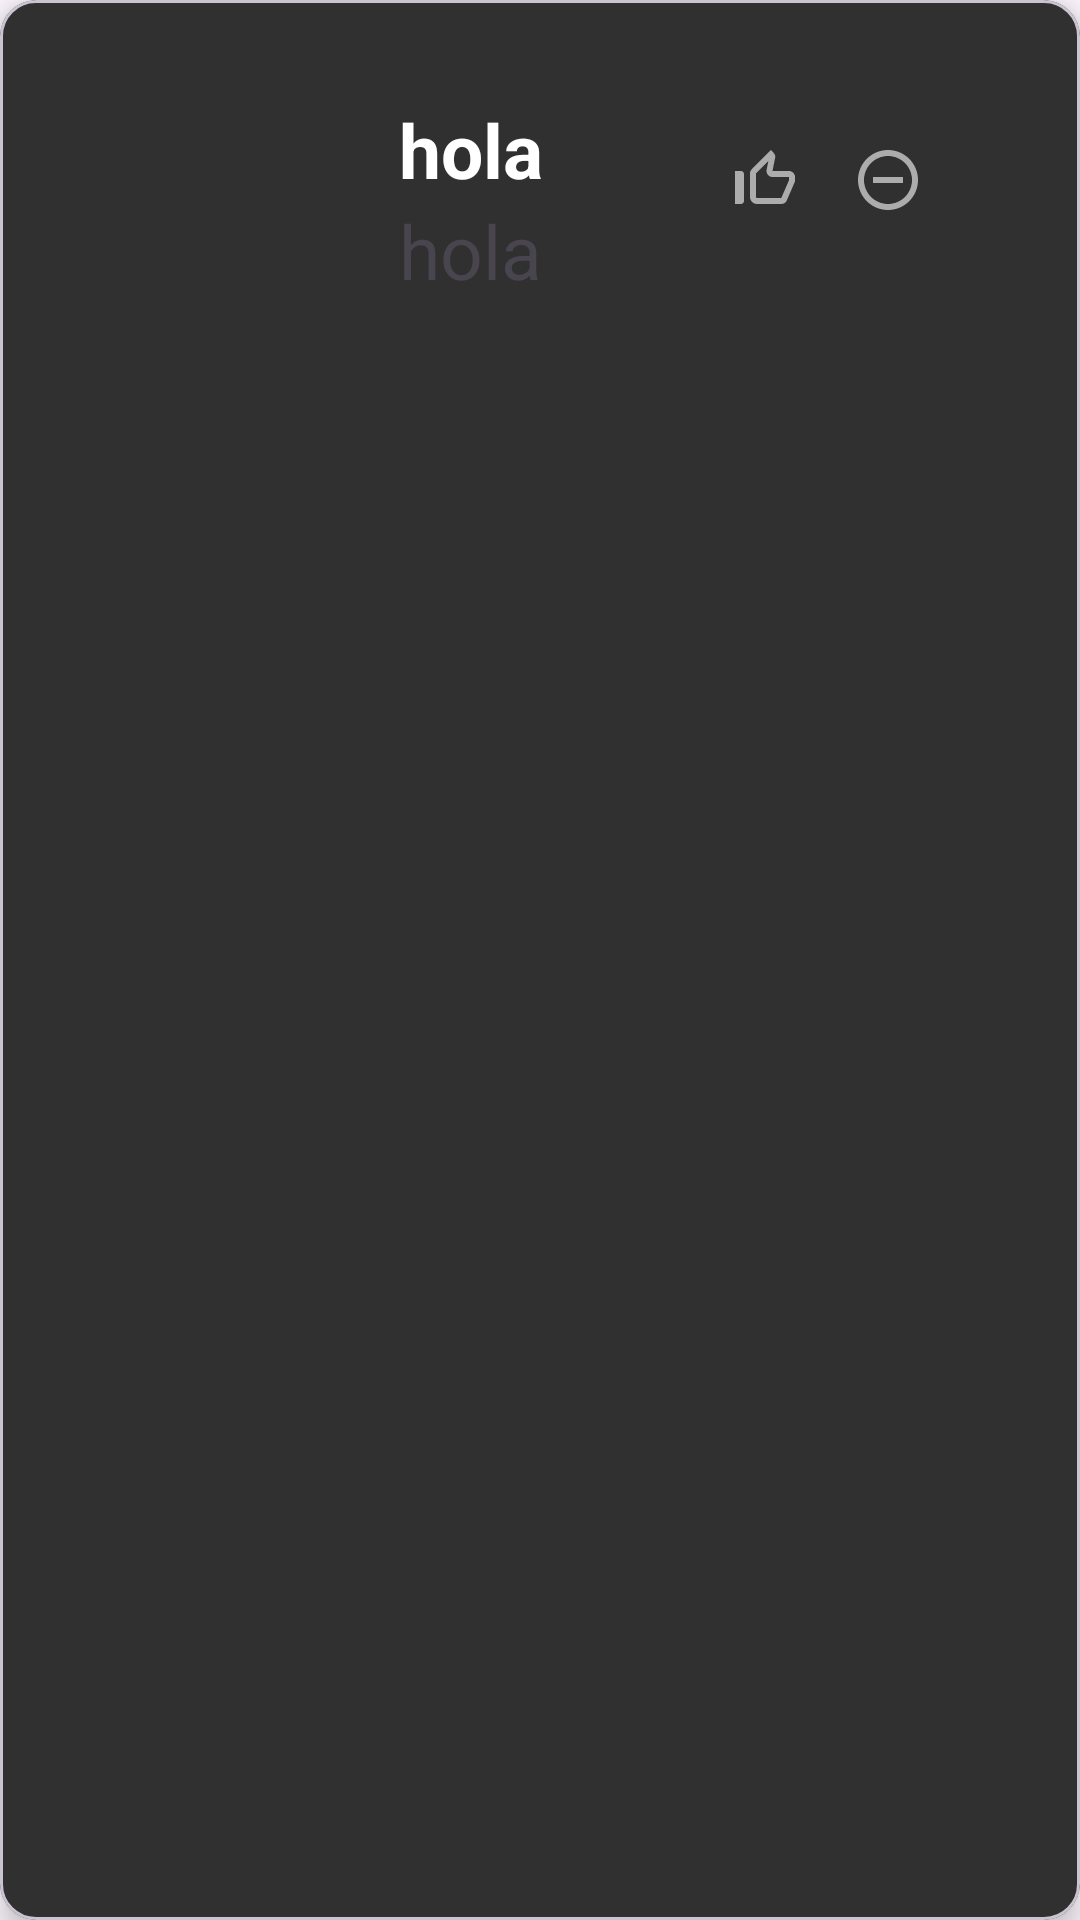

Screen size 1080px×1920px. Icon name, then its center in pixels as (x,y):
forbbiden: (888,180)
thumb: (765,177)
